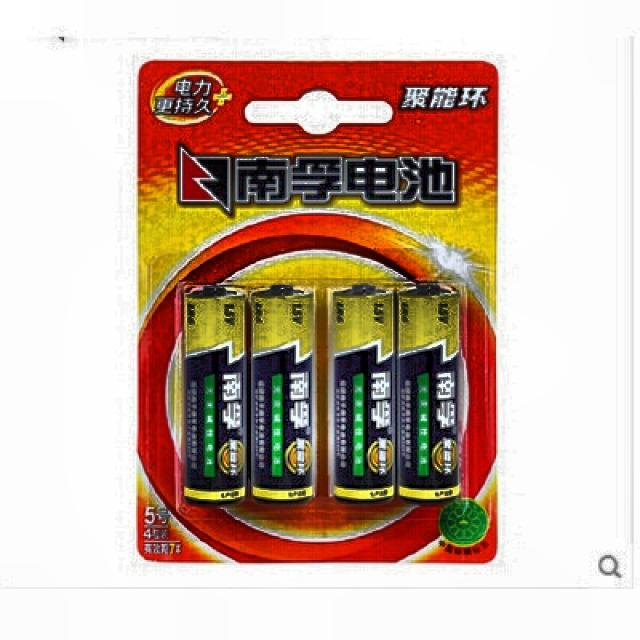Non-Valuable Waste - Batteries: (329, 285, 395, 502), (251, 285, 315, 502), (184, 285, 246, 503), (398, 285, 460, 501)
